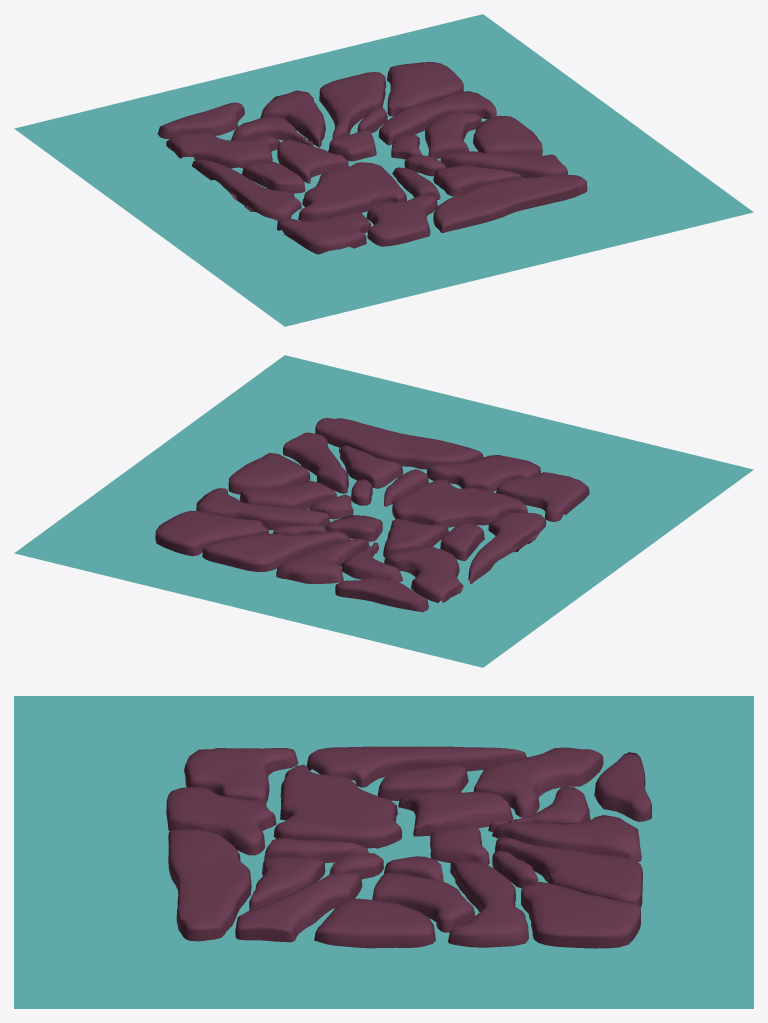
Rendered from MSH_Level2Blockout_01.fbx.
3 views of the same model, one above another, from view 1: azimuth 30°, elevation 25°; view 2: azimuth 150°, elevation 25°; view 3: azimuth 270°, elevation 25° (orthographic). The views are drawn at different scales.
Visible parts, largest first — view 1: MSH_Plane_01, MSH_LevelMesh_02; view 2: MSH_Plane_01, MSH_LevelMesh_02; view 3: MSH_Plane_01, MSH_LevelMesh_02.
Boxes of the visible parts, x1,y1,x2,y2 form: MSH_Plane_01: (14, 14, 753, 326); MSH_LevelMesh_02: (157, 62, 587, 254); MSH_Plane_01: (14, 355, 753, 667); MSH_LevelMesh_02: (155, 418, 589, 612); MSH_Plane_01: (14, 696, 753, 1008); MSH_LevelMesh_02: (166, 746, 651, 948).
Size of the model in its own units: 2606 by 180 by 2606.
